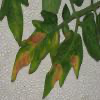Potato leaf early blight: (11, 8, 59, 78), (46, 31, 83, 94)
